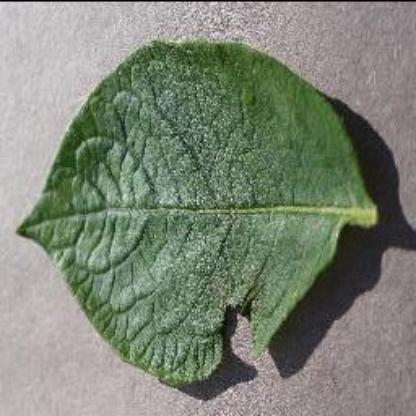Healthy-plant: (12, 32, 386, 388)
